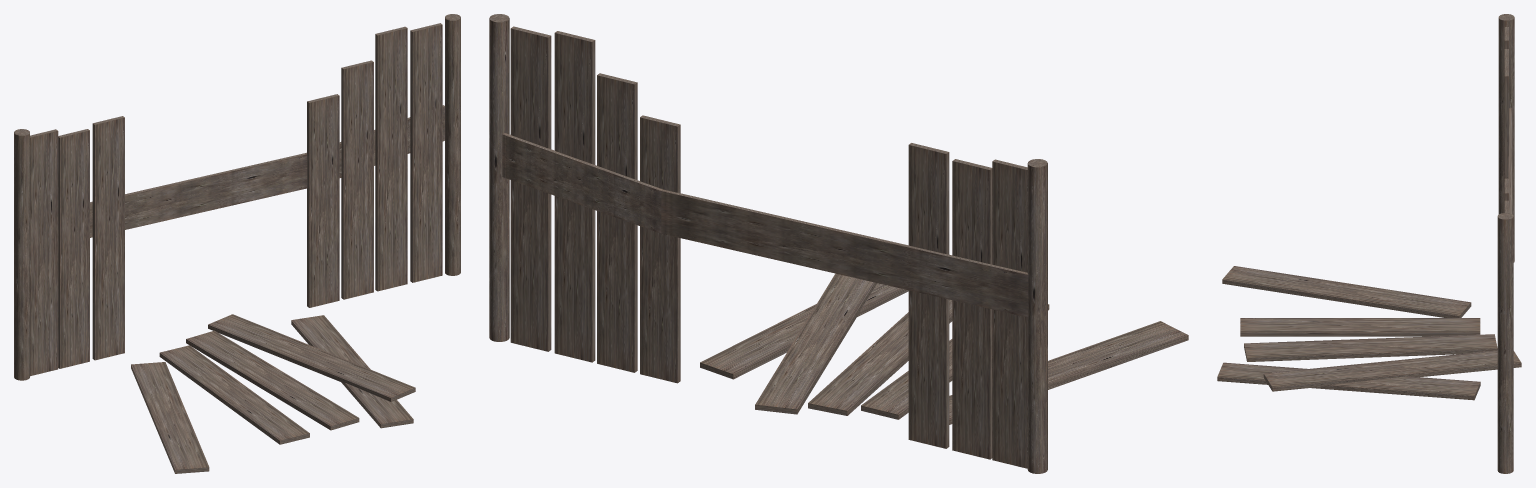
File: Fence03.fbx
The picture shows the model from 3 angles, left to right: view 1: azimuth 30°, elevation 25°; view 2: azimuth 150°, elevation 25°; view 3: azimuth 270°, elevation 25°; orthographic projection. The views are drawn at different scales.
Visible parts, largest first — view 1: Fence03; view 2: Fence03; view 3: Fence03.
Boxes of the visible parts, bbox=[...] form: Fence03: bbox=[14, 14, 460, 473]; Fence03: bbox=[489, 14, 1188, 473]; Fence03: bbox=[1217, 14, 1521, 473].
Size of the model in its own units: 374 by 206 by 223.
